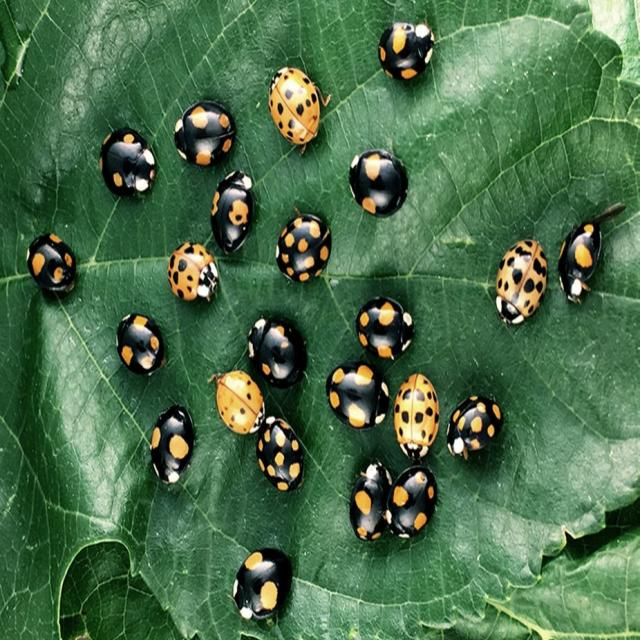ladybug: (268, 67, 330, 153), (495, 240, 547, 324), (326, 361, 389, 429), (248, 316, 306, 389), (173, 101, 236, 166), (233, 548, 291, 618), (393, 373, 439, 461), (349, 149, 408, 216), (276, 213, 332, 282), (100, 128, 156, 196), (446, 395, 503, 459), (211, 170, 254, 254), (355, 297, 413, 359), (209, 370, 265, 434), (387, 465, 436, 537), (256, 416, 303, 491), (558, 222, 601, 303), (151, 405, 194, 483), (350, 462, 391, 540), (378, 22, 434, 79), (26, 233, 75, 295), (167, 242, 218, 301), (116, 313, 164, 374)
